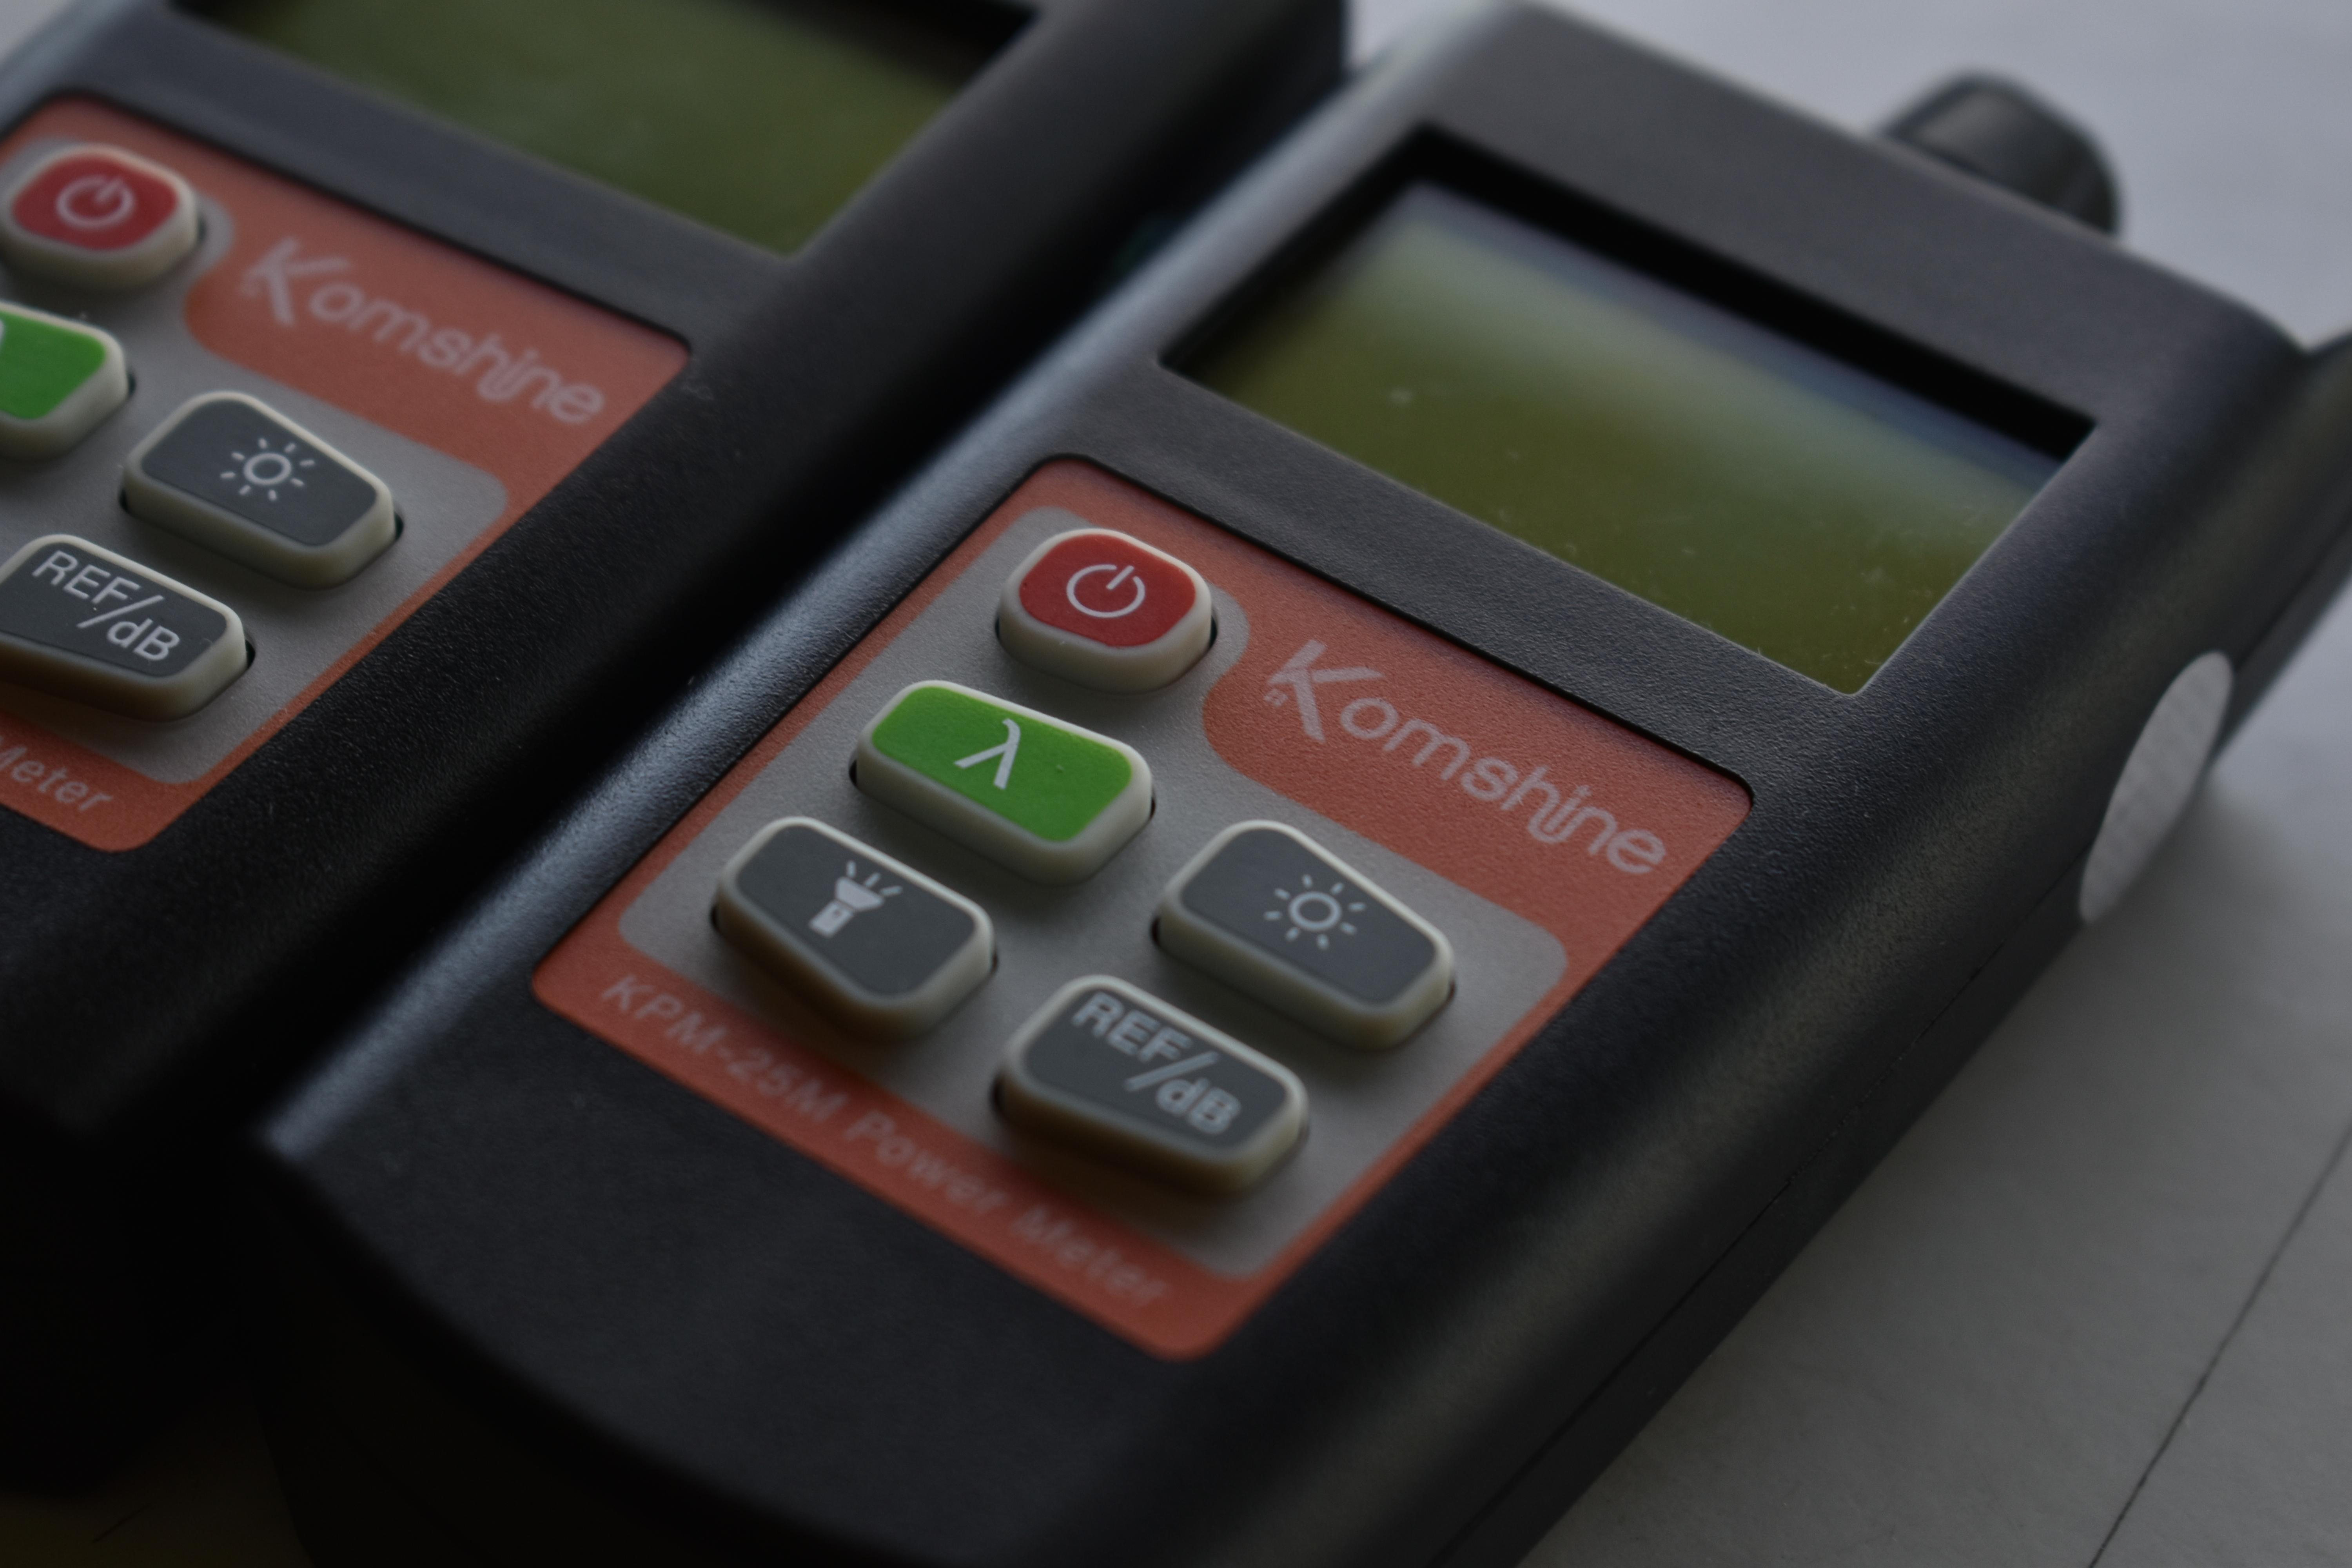powermeter: (177, 0, 2352, 1568), (0, 0, 1402, 1477)
